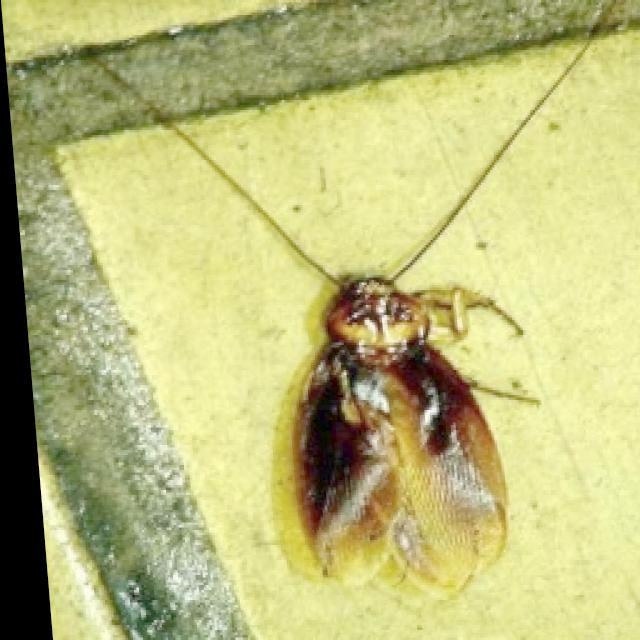cockroach: (295, 274, 518, 597)
